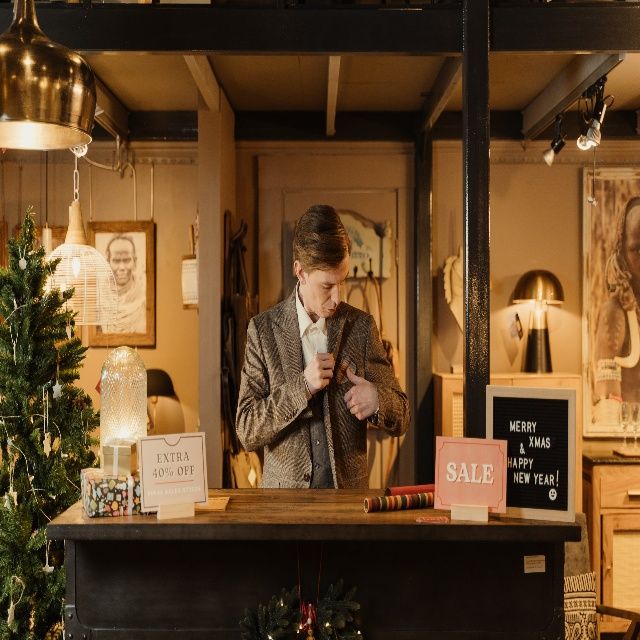Sin_guantes: (342, 366, 375, 421), (305, 349, 334, 394)
